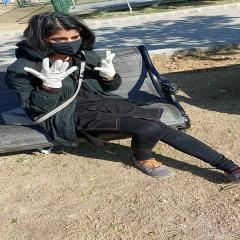gloved: (25, 58, 77, 88), (96, 51, 116, 79)
